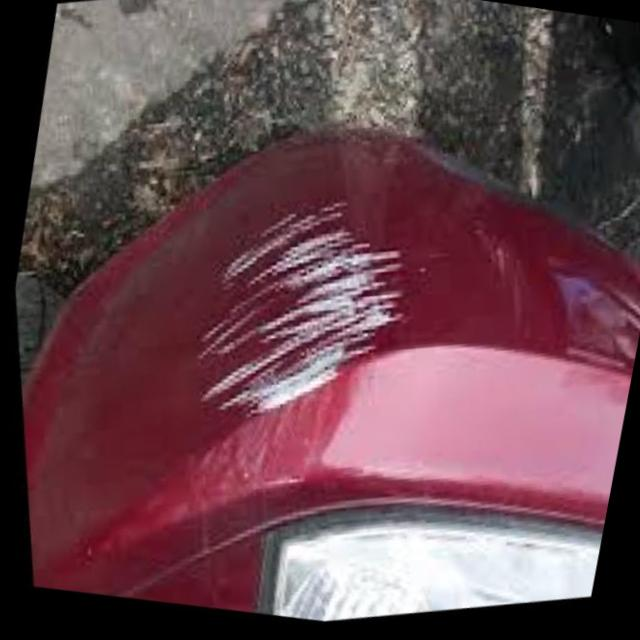Scratch: (177, 169, 427, 452)
